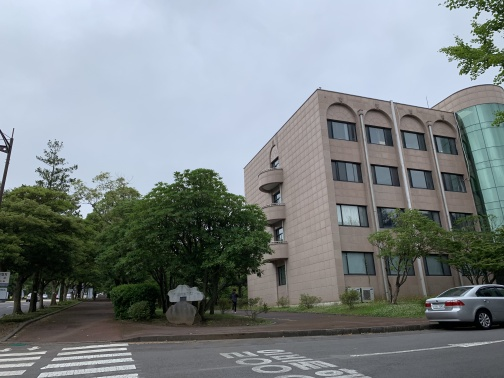Natural Science2: (239, 74, 504, 306)
